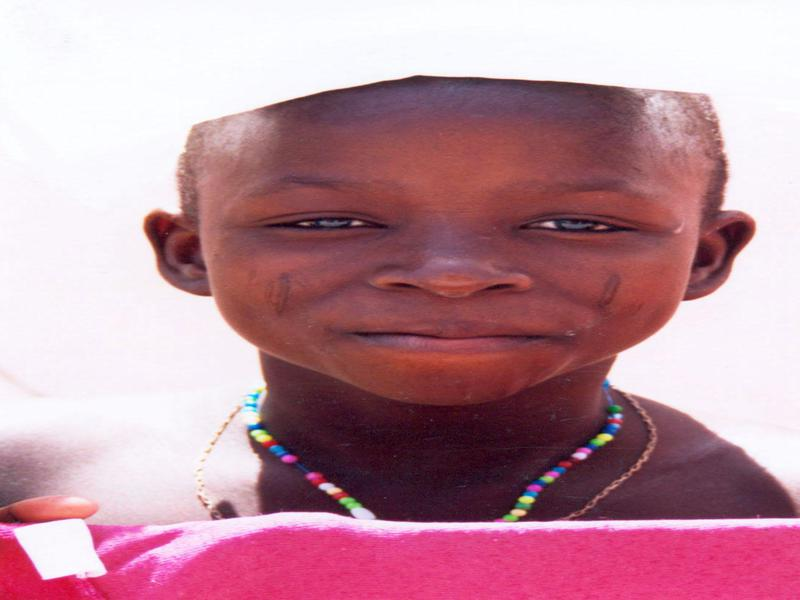person: (12, 65, 800, 595)
